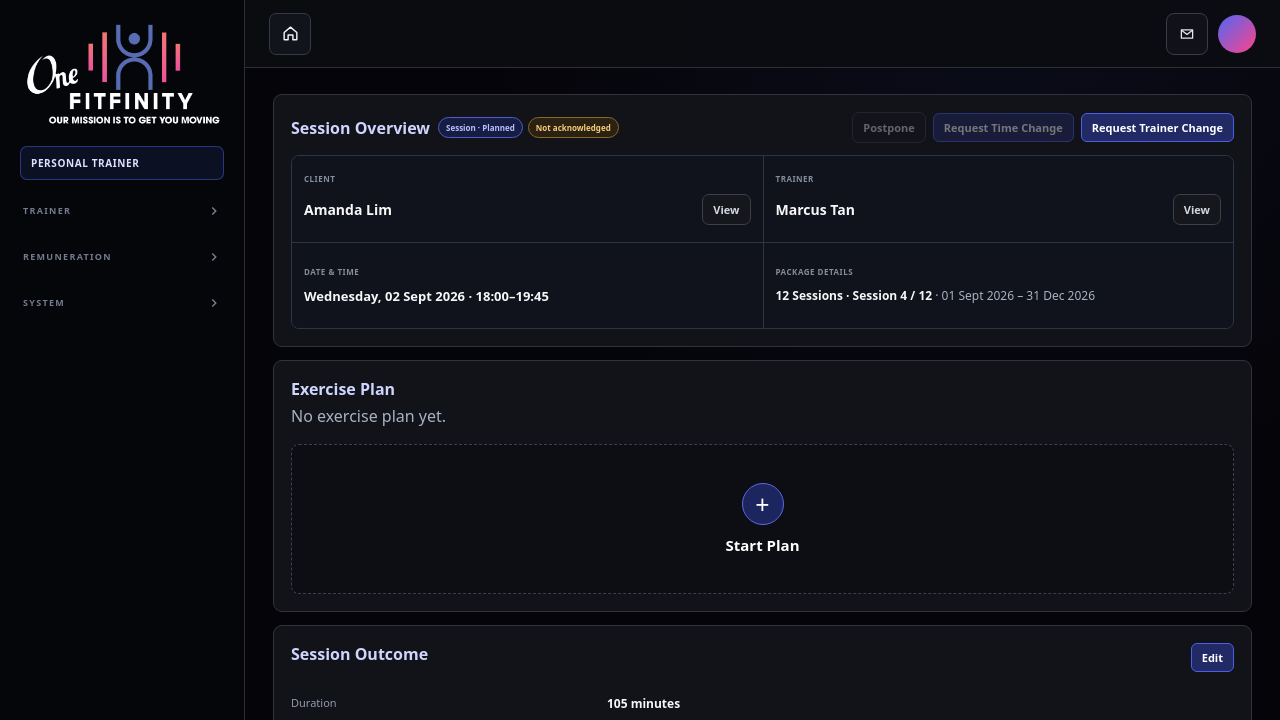
Test case: derives outcome and generated summary duration from session times instead of a stored duration
Click the button "Edit" at (1212, 658), box [1191,643,1234,672]
(page scrolled)
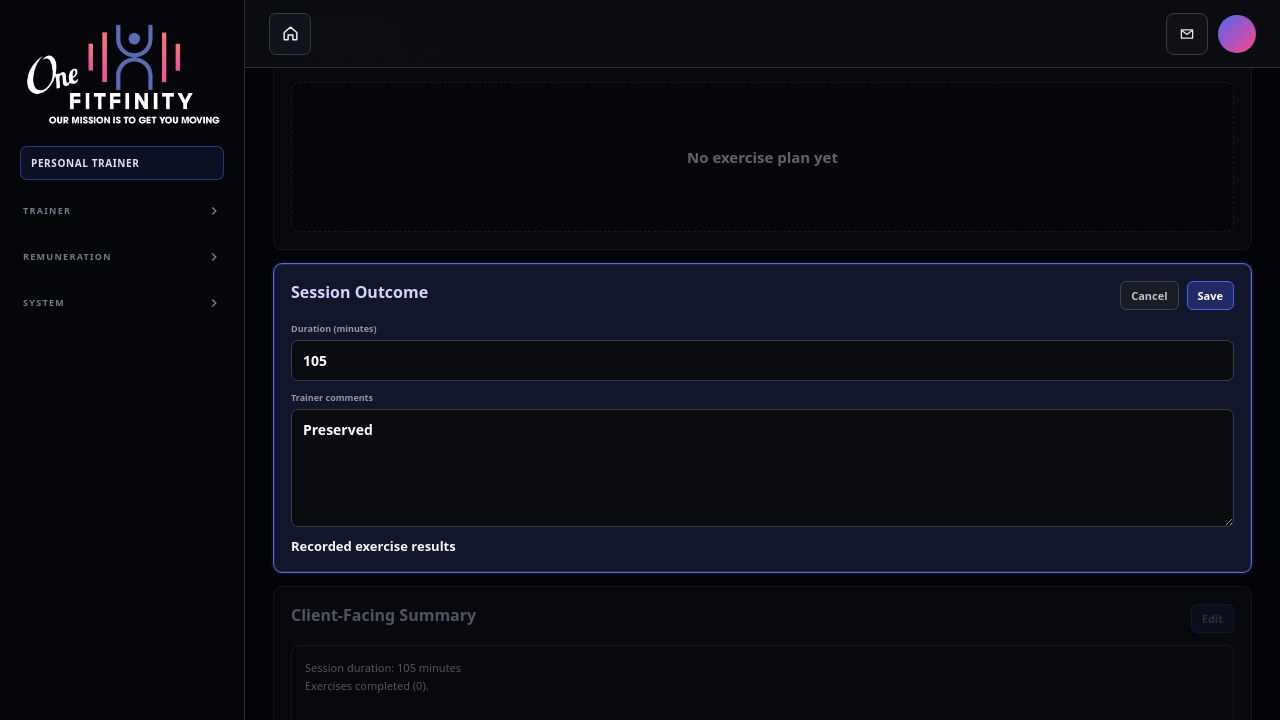
Result: the number field labelled "Duration (minutes)" holds "105" at [291,340,1234,381]
